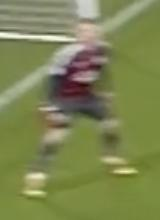goalkeeper: (13, 12, 146, 211)
